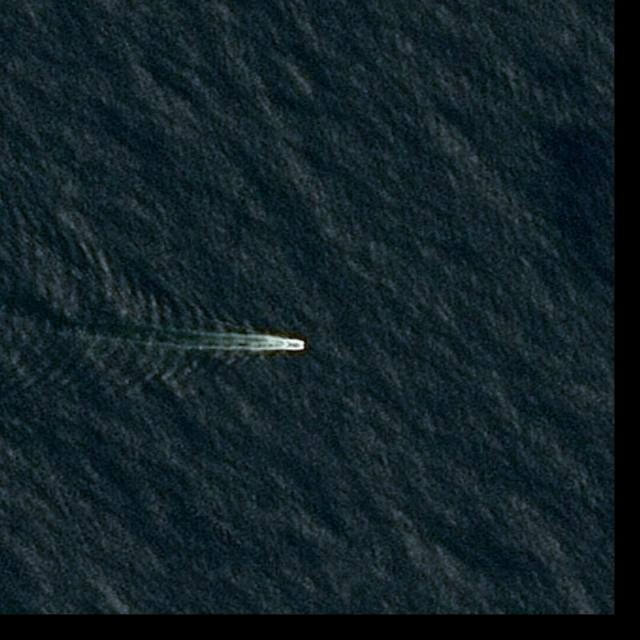ship: (290, 342, 303, 348)
